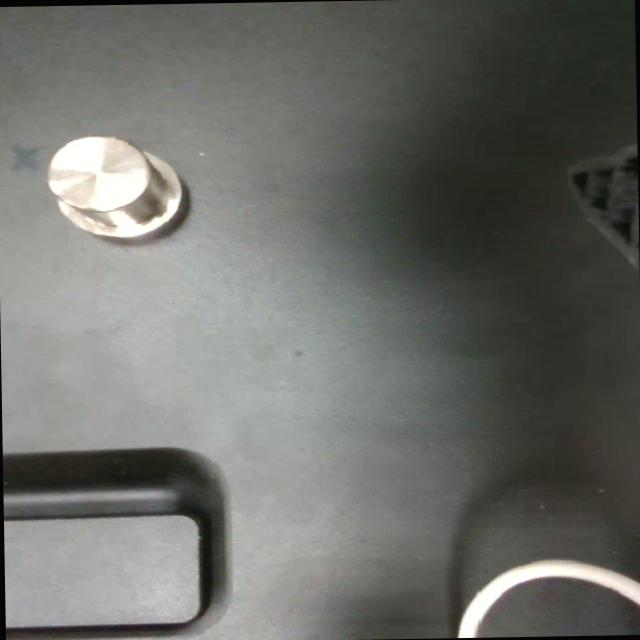sensor: (44, 133, 185, 242)
